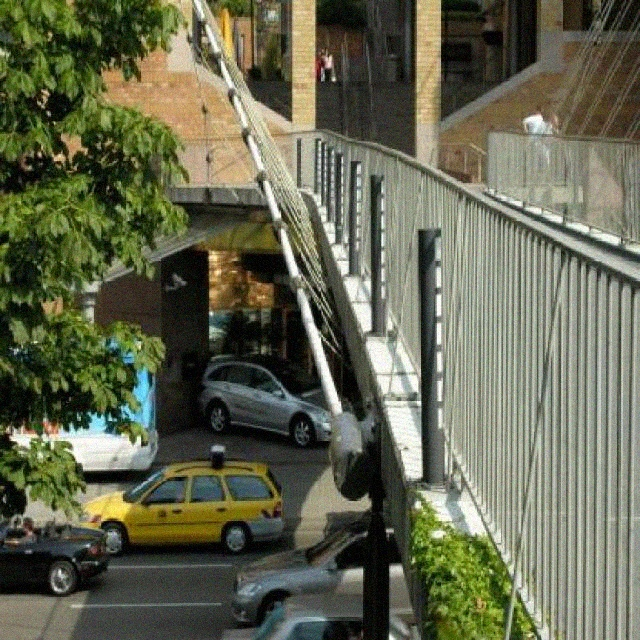stair: (243, 78, 506, 160)
